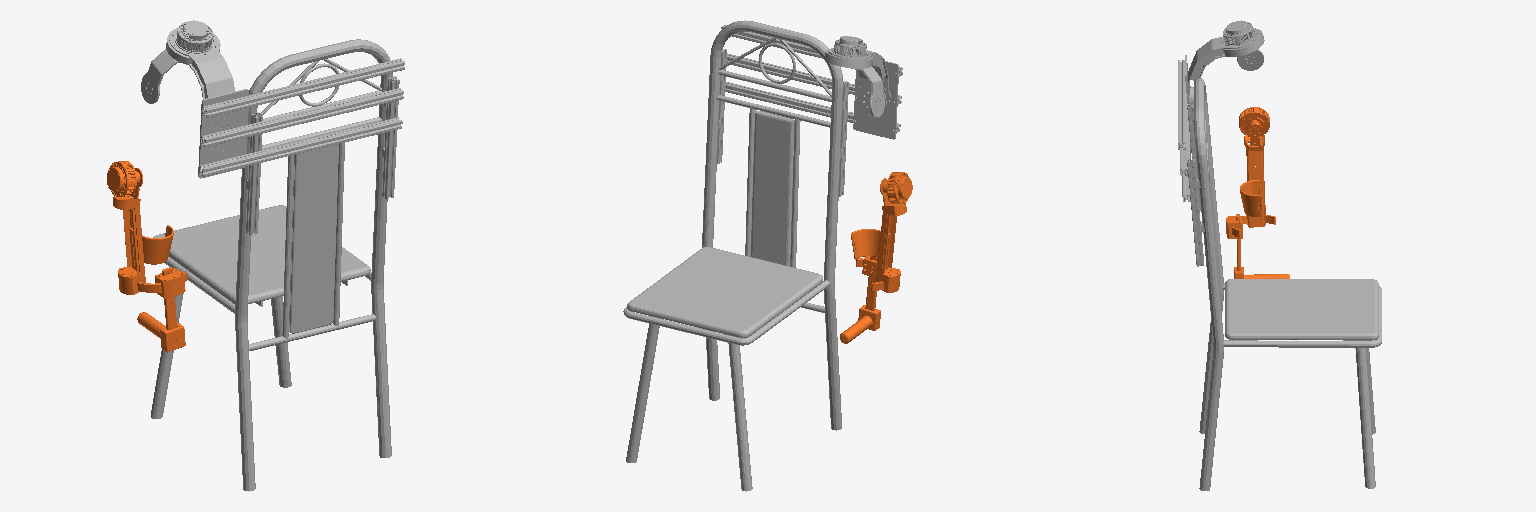
The robot description file, URDF, robot "gim_arm":
<?xml version="1.0"?>
<robot name="gim_arm">

  <!-- Dummy root link to satisfy KDL (added) -->
  <link name="base_footprint"/>

  <!-- Tạo mặt đất ảo -->
  <link name="world"/>

  <!-- Bắt vít gốc của cánh tay xuống mặt đất ảo -->
  <joint name="world_fixed" type="fixed">
    <parent link="world"/>
    <child link="base_footprint"/>
    <origin xyz="0 0 0" rpy="0 0 0"/>
  </joint>

  <!-- Fixed joint from dummy root to base_link (added) -->
  <joint name="base_footprint_to_base_link" type="fixed">
    <parent link="base_footprint"/>
    <child link="base_link"/>
    <origin xyz="0 0 0" rpy="0.083 0 0"/>
    <!-- <origin xyz="0 0 0" rpy="0.1 0 0"/> -->
  </joint>

  <link name="base_link">
    <inertial>
      <origin xyz="0.27344094303007 0.27938715952061 0.510149299908653" rpy="0 0 0" />
      <mass value="6.66855777151619" />
      <inertia
        ixx="0.292932757999248"
        ixy="2.42532565985983E-05"
        ixz="1.4908094022849E-05"
        iyy="0.157532051318604"
        iyz="-0.0223597784843357"
        izz="0.31549969202859" />
    </inertial>
    <visual>
      <origin xyz="0 0 0" rpy="0 0 0" />
      <geometry>
        <mesh filename="meshes/base_link.STL" />
      </geometry>
      <material name="base_link_color">
        <color rgba="0.752941176470588 0.752941176470588 0.752941176470588 1" />
      </material>
    </visual>
    <collision>
      <origin xyz="0 0 0" rpy="0 0 0" />
      <geometry>
        <mesh filename="meshes/base_link.STL" />
      </geometry>
    </collision>
  </link>

  <link name="shoulder_link">
    <inertial>
      <origin xyz="-0.166448794327975 0.0056887985806402 -0.0172848581490532" rpy="0 0 0" />
      <mass value="0.190732966677201" />
      <inertia
        ixx="0.000205948851297408"
        ixy="-2.38990127172075E-07"
        ixz="7.27163071554151E-05"
        iyy="0.000237074859368272"
        iyz="-8.24496296171646E-07"
        izz="0.000153162765676654" />
    </inertial>
    <visual>
      <origin xyz="0 0 0" rpy="0 0 0" />
      <geometry>
        <mesh filename="meshes/shoulder_link.STL" />
      </geometry>
      <material name="shoulder_link_color">
        <color rgba="0.752941176470588 0.752941176470588 0.752941176470588 1" />
      </material>
    </visual>
    <collision>
      <origin xyz="0 0 0" rpy="0 0 0" />
      <geometry>
        <mesh filename="meshes/shoulder_link.STL" />
      </geometry>
    </collision>
  </link>

  <!-- type đổi continuous -> revolute (bản export mặc định continuous, không giới
       hạn góc; khớp thật của bạn có giới hạn -> phải revolute mới đảm bảo
       lower/upper được các tool tôn trọng). axis lệch trục sạch (không phải
       "1 0 0"), nên xác nhận lại với CAD xem đây là lệch thật hay nhiễu mate. -->
  <joint name="base_joint" type="revolute">
    <origin xyz="0.031381 -0.48621 0.64846" rpy="1.4637 1.364 1.4753" />
        <!-- <origin xyz="0.031381 -0.48621 0.64846" rpy="1.4637 1.364/1.744 1.4753" /> -->
    <parent link="base_link" />
    <child link="shoulder_link" />
    <axis xyz="0.99932 -0.031099 -0.019999" />
    <!-- effort/velocity giờ suy ra từ đúng 3 con số phần cứng, quy về PHÍA
         KHỚP (trục ra) chứ không phải phía rotor:
           1) GIM6010-8: 5Nm định mức / 11Nm stall tại trục ra hộp số nội bộ
              8:1, tức phía rotor là 0.625Nm định mức.
           2) controller.config.vel_limit = 20 rev/s phía rotor
              = 20*2*pi = 125.66 rad/s.
           3) gear_ratio TỔNG mỗi khớp (khai trong khối ros2_control bên dưới,
              cùng nguồn mà gim_arm_system.cpp đọc): base 8, shoulder 64
              (8 nội bộ x 8 hộp ngoài), elbow 8.
         Suy ra: effort = 0.625 * N, tức base/elbow 5Nm và shoulder 40Nm;
         velocity = 125.66 / N, tức base/elbow 15.708 rad/s và shoulder 1.963.
         Dùng mô-men ĐỊNH MỨC (liên tục), không dùng stall 11Nm/88Nm: stall
         chỉ có trong thời gian ngắn và bị giới hạn nhiệt, không nên để
         planner coi là dùng được liên tục trên thiết bị đeo vào người.
         CẦN XÁC NHẬN: vel_limit=20 rev/s là giá trị cấu hình của driver, nên
         đọc lại bằng odrivetool (axis0.controller.config.vel_limit) trên từng
         driver thật; nếu khác thì sửa lại theo công thức 125.66/N. -->
    <limit lower="-0.7121" upper="1.0226" effort="5" velocity="15.708" />
  </joint>

  <link name="upper_arm_link">
    <inertial>
      <origin xyz="-0.020736655172626 0.102615712569984 -0.0918424005027231" rpy="0 0 0" />
      <mass value="1.15563310050408" />
      <inertia
        ixx="0.0046453378861501"
        ixy="-0.000106201197109939"
        ixz="-0.000256625754245197"
        iyy="0.00528562874184763"
        iyz="-0.00041294658184148"
        izz="0.0010644214679654" />
    </inertial>
    <visual>
      <origin xyz="0 0 0" rpy="0 0 0" />
      <geometry>
        <mesh filename="meshes/upper_arm_link.STL" />
      </geometry>
      <material name="upper_arm_link_color">
        <color rgba="0.545098039215686 0 0.870588235294118 1" />
      </material>
    </visual>
    <collision>
      <origin xyz="0 0 0" rpy="0 0 0" />
      <geometry>
        <mesh filename="meshes/upper_arm_link.STL" />
      </geometry>
    </collision>
  </link>

  <joint name="shoulder_joint" type="revolute">
    <origin xyz="-0.049966 0.001555 0.00099995" rpy="-1.375708549 0.010247217 1.396947503" />
        <!-- <origin xyz="-0.049966 0.001555 0.00099995" rpy="-1.3842 -0.058173 1.7475" /> -->
    <parent link="shoulder_link" />
    <child link="upper_arm_link" />
    <axis xyz="0 -1 0" />
    <!-- gear_ratio 64 (8 nội bộ x 8 hộp ngoài): mô-men gấp 8 lần base/elbow
         nhưng tốc độ tối đa chỉ còn 1/8. Số cũ (effort 5, velocity 12.5) sai
         cả 2 chiều: khai thiếu 8 lần mô-men thật, và khai thừa 6.4 lần tốc độ
         mà khớp này không bao giờ đạt được. Xem giải thích ở base_joint. -->
    <limit lower="-0.2366" upper="1.3435" effort="40" velocity="1.963" />
  </joint>

  <link name="lower_arm_link">
    <inertial>
      <origin xyz="0.185270162663334 0.00970989472364725 0.0463325988746627" rpy="0 0 0" />
      <mass value="0.846776609767109" />
      <inertia
        ixx="0.000639693628361318"
        ixy="2.29941438911678E-05"
        ixz="0.000253970645035867"
        iyy="0.00160796485183614"
        iyz="1.83629192835509E-05"
        izz="0.00182026575035514" />
    </inertial>
    <visual>
      <origin xyz="0 0 0" rpy="0 0 0" />
      <geometry>
        <mesh filename="meshes/lower_arm_link.STL" />
      </geometry>
      <material name="lower_arm_link_color">
        <color rgba="1 0.509803921568627 0.196078431372549 1" />
      </material>
    </visual>
    <collision>
      <origin xyz="0 0 0" rpy="0 0 0" />
      <geometry>
        <mesh filename="meshes/lower_arm_link.STL" />
      </geometry>
    </collision>
  </link>

  <joint name="elbow_joint" type="revolute">
    <origin xyz="-0.014232 0 -0.21358" rpy="1.570809721 1.469492654 -3.141575913" />
        <!-- <origin xyz="-0.014232 0 -0.21358" rpy="-1.5708 1.1931 0" /> -->
    <parent link="upper_arm_link" />
    <child link="lower_arm_link" />
    <axis xyz="0 0 -1" />
    <!-- gear_ratio 8 (chỉ hộp số nội bộ), giống base_joint. -->
    <limit lower="-0.2336" upper="1.7762" effort="5" velocity="15.708" />
  </joint>

<!-- param cho node_id + CAN interface + state velocity + gear_ratio + invert_direction -->
<ros2_control name="GimArmSystem" type="system">
  <hardware>
    <plugin>gim_arm_hardware/GimArmSystemHardware</plugin>
    <param name="can_interface">can0</param>
    <!-- Feedforward cho Set_Input_Pos (0x00C). Mặc định trong code là TẮT;
         bật ở đây để việc bật/tắt là một dòng NHÌN THẤY ĐƯỢC trong URDF, không
         phải hành vi ẩn trong plugin.
         - velocity_feedforward: điền Vel_FF = q̇_ref. Xoá sai số bám thường
           trực e = q̇/pos_gain của vòng P vị trí (nguồn trễ chính, KHÔNG mất đi
           khi đổi input_mode). Cần <command_interface name="velocity"/> bên
           dưới VÀ 'velocity' trong command_interfaces của controllers.yaml.
         - gravity_feedforward: điền Torque_FF = G(q_lệnh), tính bằng Pinocchio
           từ chính file URDF này.
         Đo trong mô phỏng (kinematics_test/compare_architectures.py), sai số
         bám đầu tay: 2.066mm -> 0.437mm (vel_ff) -> 0.266mm (thêm G(q)).
         TẮT NHANH khi thử trên tay thật: đổi true thành false, không cần build
         lại C++, chỉ cần colcon build gim_arm_description và chạy lại.
         Vẫn giữ nguyên control_mode=3 (vị trí): driver giữ vòng vị trí của nó,
         nên PC chết thì tay vẫn đứng, không rơi. -->
    <param name="velocity_feedforward">false</param>
    <param name="gravity_feedforward">false</param>

    <!-- ===== Chế độ MÔ-MEN (đường LQI) =====
         Chỉ bật khi controller claim interface 'effort'. Đường PID không đụng
         tới. torque_sign: quy ước dấu của FIRMWARE. Input_Torque dương làm
         encoder TĂNG (+1) hay GIẢM (-1). ĐO BẰNG cansend trước khi chạy vòng
         kín, xem RUNBOOK Phase 2. Đây KHÔNG phải invert_direction: cái đó bù
         chiều lắp motor và đã nằm trong directions_.
         effort_stale_cycles: forward_command_controller ghi lại giá trị cuối
         mãi mãi nếu lqi_node chết. 50 chu kỳ @100Hz = 0.5 s không đổi một bit
         nào thì plugin coi nguồn phát đã chết và tụt về bù trọng lực. -->
    <param name="torque_sign">1</param>
    <param name="effort_stale_cycles">50</param>
  </hardware>
  <joint name="base_joint">
    <command_interface name="position"/>
    <command_interface name="velocity"/>
    <!-- effort: đường vào của LQI. Thêm interface này KHÔNG ảnh hưởng đường
         PID vì JTC chỉ claim position+velocity, interface thừa nó không đụng. -->
    <command_interface name="effort"/>
    <state_interface name="position"/>
    <state_interface name="velocity"/>
    <param name="can_node_id">0</param>
    <!-- Trần cứng mô-men PHÍA KHỚP, riêng khớp này. Lớp bảo vệ cuối, độc lập
         với tau_scale bên lqi_node. cần 1.58 (ff đỉnh 0.44 + phản hồi 1.13) Nm;
         để 2.5 = ~1.5 lần dư địa. Trần URDF <limit effort> là 5 Nm. -->
    <param name="max_torque_joint_nm">2.5</param>
    <param name="invert_direction">true</param>       <!-- them -->
  </joint>
  <joint name="shoulder_joint">
    <command_interface name="position"/>
    <command_interface name="velocity"/>
    <!-- effort: đường vào của LQI. Thêm interface này KHÔNG ảnh hưởng đường
         PID vì JTC chỉ claim position+velocity, interface thừa nó không đụng. -->
    <command_interface name="effort"/>
    <state_interface name="position"/>
    <state_interface name="velocity"/>
    <param name="can_node_id">1</param>
    <!-- Trần cứng mô-men PHÍA KHỚP, riêng khớp này. Lớp bảo vệ cuối, độc lập
         với tau_scale bên lqi_node. cần 4.99 (ff đỉnh 3.64 + phản hồi 1.35) Nm;
         để 7.5 = ~1.5 lần dư địa. Trần URDF <limit effort> là 40 Nm. -->
    <param name="max_torque_joint_nm">7.5</param>
    <param name="gear_ratio">64.0</param>
  </joint>
  <joint name="elbow_joint">
    <command_interface name="position"/>
    <command_interface name="velocity"/>
    <!-- effort: đường vào của LQI. Thêm interface này KHÔNG ảnh hưởng đường
         PID vì JTC chỉ claim position+velocity, interface thừa nó không đụng. -->
    <command_interface name="effort"/>
    <state_interface name="position"/>
    <state_interface name="velocity"/>
    <param name="can_node_id">2</param>
    <!-- Trần cứng mô-men PHÍA KHỚP, riêng khớp này. Lớp bảo vệ cuối, độc lập
         với tau_scale bên lqi_node. cần 1.80 (ff đỉnh 1.51 + phản hồi 0.29) Nm;
         để 3.0 = ~1.5 lần dư địa. Trần URDF <limit effort> là 5 Nm. -->
    <param name="max_torque_joint_nm">3.0</param>
    <param name="invert_direction">true</param>
  </joint>
</ros2_control>

</robot>

--- Facts derived from the render (not from the file) ---
The picture shows the robot from 3 angles, left to right: view 1: azimuth 30°, elevation 25°; view 2: azimuth 150°, elevation 25°; view 3: azimuth 270°, elevation 25°; orthographic projection.
Model gim_arm with 6 links and 5 joints (3 revolute, 2 fixed), rooted at world, posed every joint at zero.
Links seen in each view (by area): view 1: base_link, lower_arm_link, shoulder_link; view 2: base_link, lower_arm_link, shoulder_link; view 3: base_link, lower_arm_link, shoulder_link.
Boxes of the visible links, x1,y1,x2,y2 form: base_link: (151, 27, 404, 491); lower_arm_link: (107, 161, 187, 352); shoulder_link: (141, 20, 212, 103); base_link: (623, 20, 902, 491); lower_arm_link: (840, 172, 912, 343); shoulder_link: (834, 36, 884, 117); base_link: (1178, 28, 1381, 490); lower_arm_link: (1226, 107, 1289, 278); shoulder_link: (1223, 20, 1263, 70).
Bounding box of the posed robot: 0.6449 × 0.5307 × 1.13 m (x, y, z).
Meshes: 4 distinct files referenced, 3 mesh visuals loaded (3 binary STL); not drawn: 1 (reference not matched to a file when rendering).
